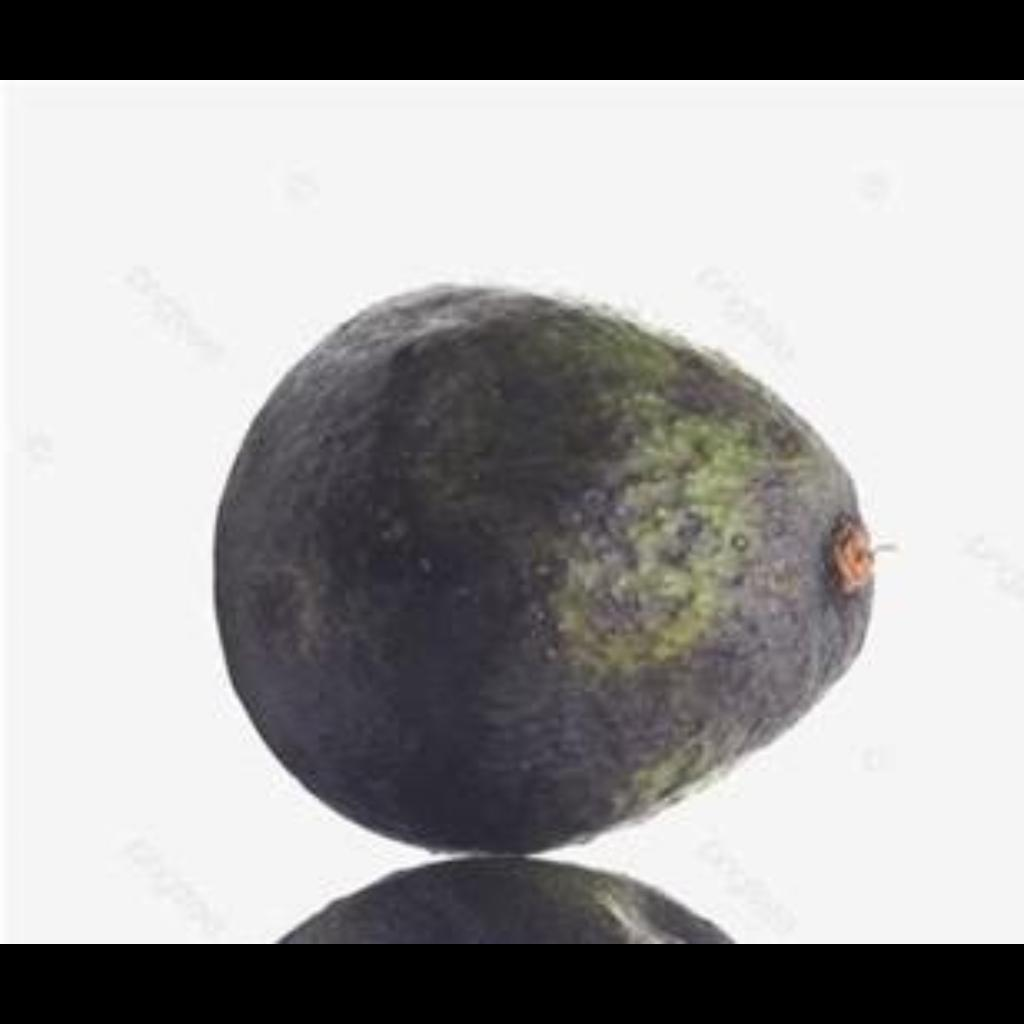Anthracnose: (204, 294, 900, 846)
